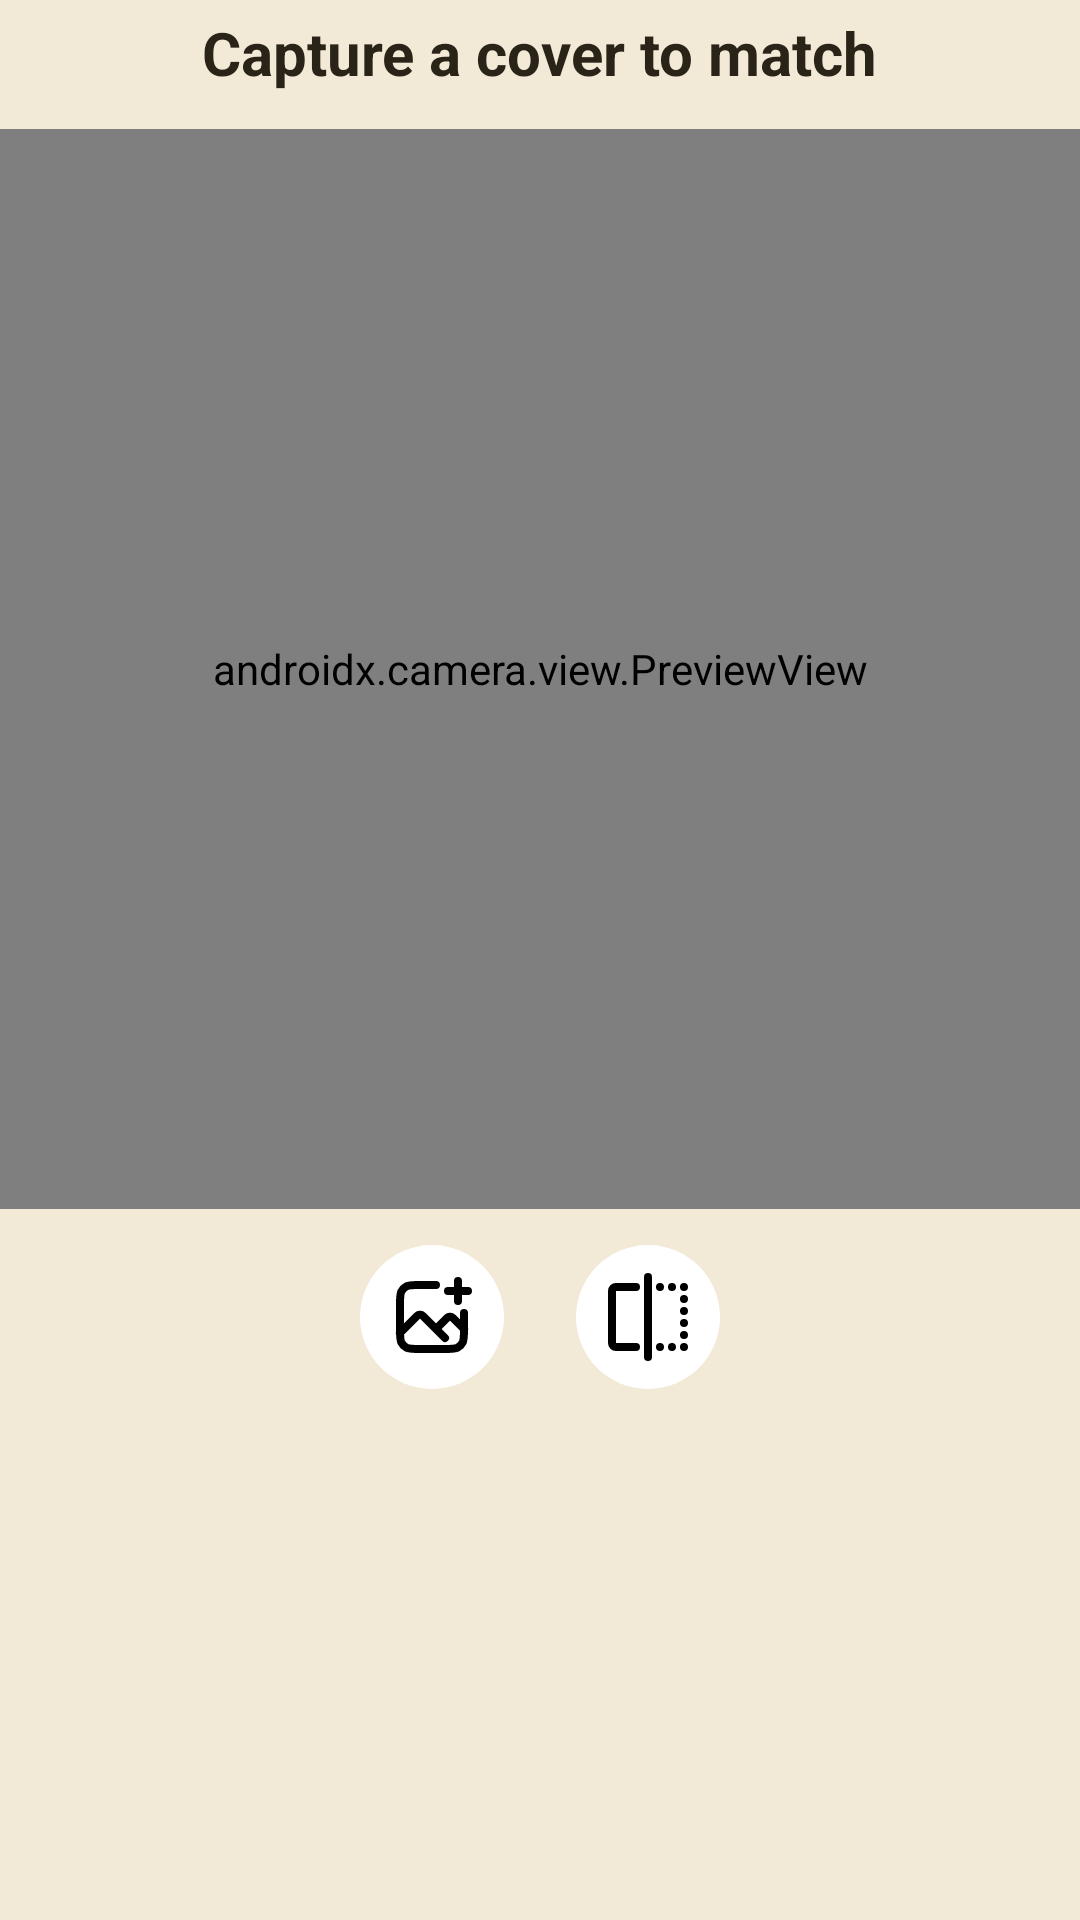

Named icons in this screenshot (1080px×1920px) and their bounding boxes, (x1, y1, x2, y2):
add photo: (360, 1245, 504, 1389)
